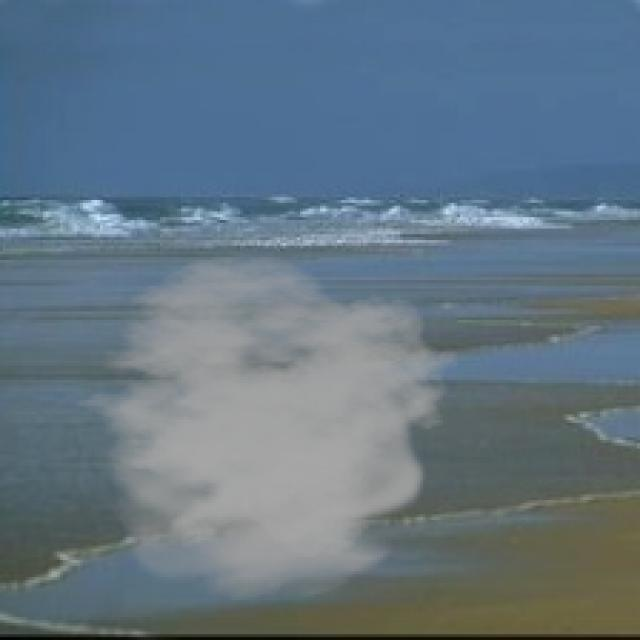Smoke: (57, 255, 460, 600)
